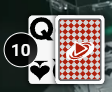q: (29, 16, 55, 42)
